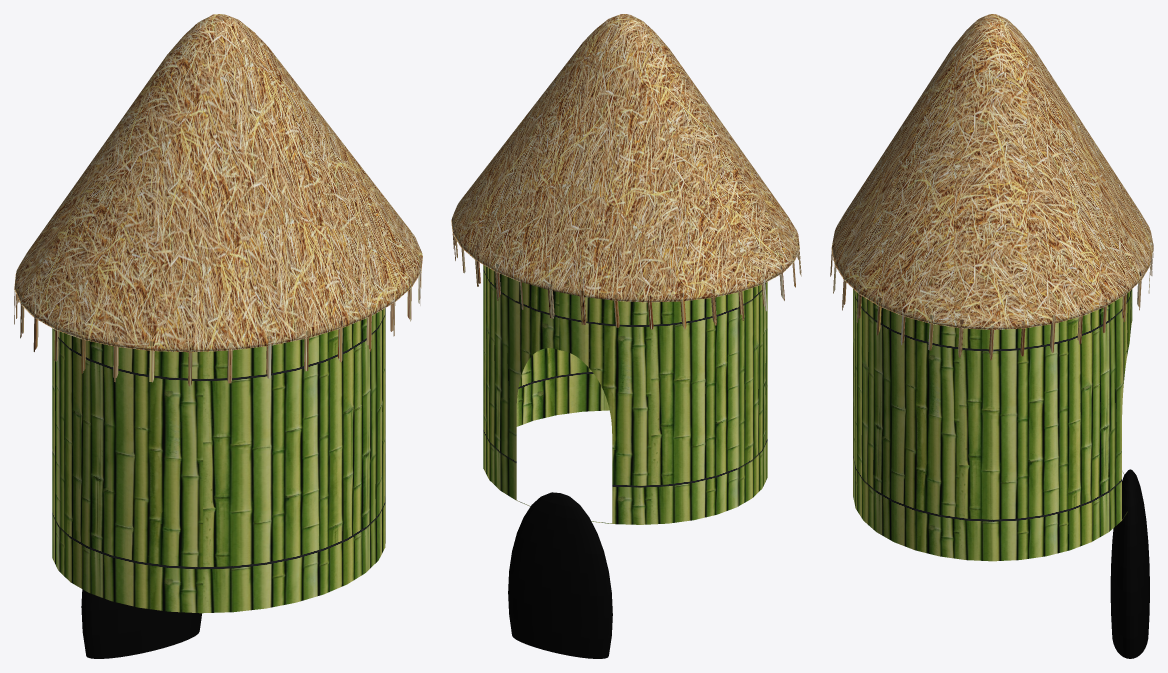
3 renders of one model, left to right at view 1: azimuth 30°, elevation 25°; view 2: azimuth 150°, elevation 25°; view 3: azimuth 270°, elevation 25°, orthographic. The views are drawn at different scales.
Parts seen in each view (by area): view 1: Cone, Cylinder, Sphere.001; view 2: Cone, Cylinder, Sphere.001; view 3: Cone, Cylinder, Sphere.001.
Part boxes in pixels (box(x1,y1,x2,y2)): Cone: box(14, 14, 422, 386); Cylinder: box(52, 308, 385, 613); Sphere.001: box(81, 589, 201, 658); Cone: box(451, 14, 801, 329); Cylinder: box(483, 265, 767, 524); Sphere.001: box(508, 492, 612, 658); Cone: box(830, 14, 1153, 360); Cylinder: box(853, 289, 1132, 561); Sphere.001: box(1110, 469, 1149, 658).
Bounding box in the file's own units: 3.99 × 7.04 × 3.34.
3 materials, 2 textured.
